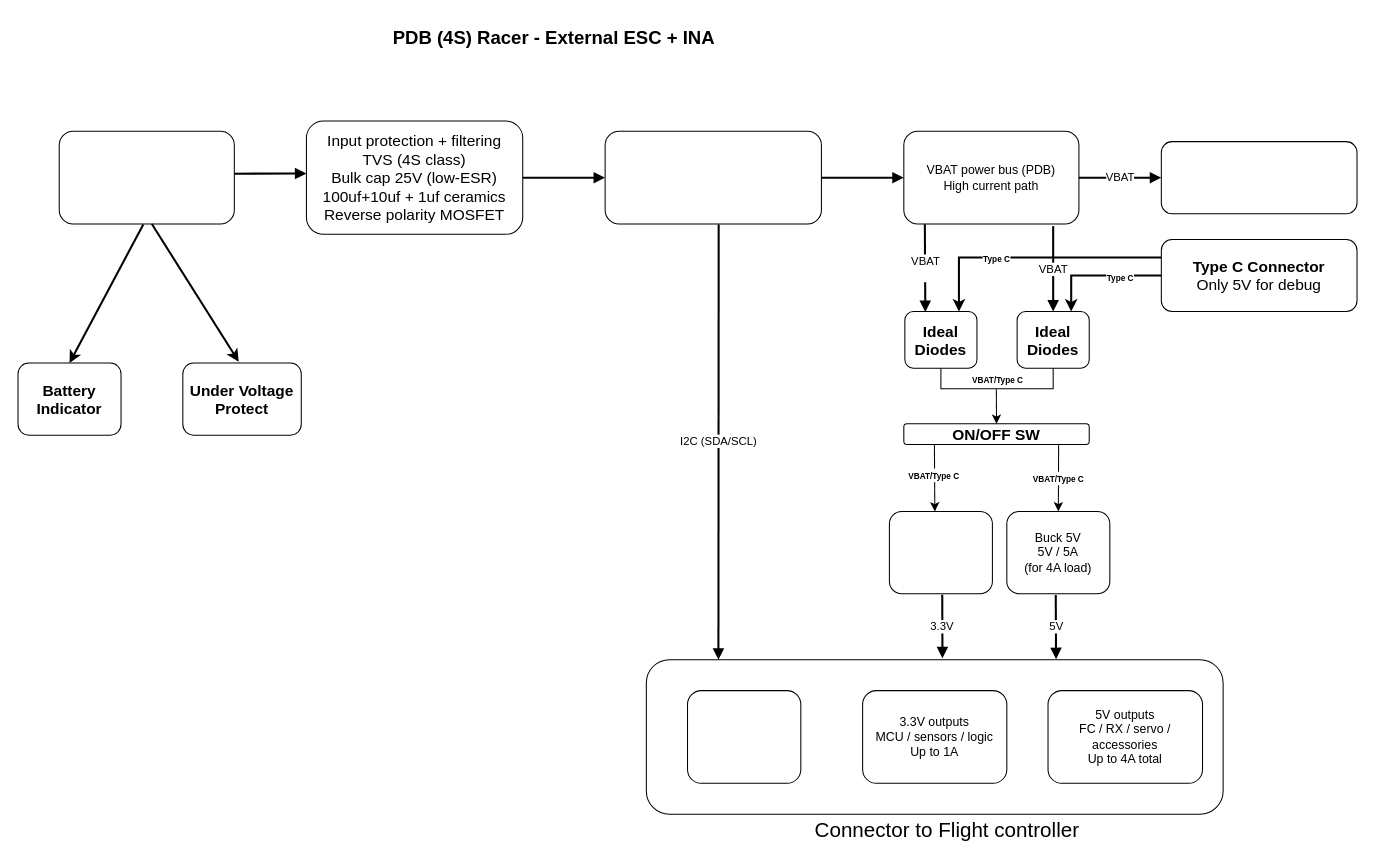
This 1375x862 diagram has some shape labels left out. The centre of each missing label's shape, as x and y in pixels:
Battery 4S 12-16.8V XT60 input: point 146,177
Buck 3.3V 3.3V / 2A (target ~1A): point 940,552
ESC (external) Up to 60A: point 1258,177
FC or MCU I2C master: point 743,736
INA (in-line) Current + voltage monitor I2C output: point 712,177
